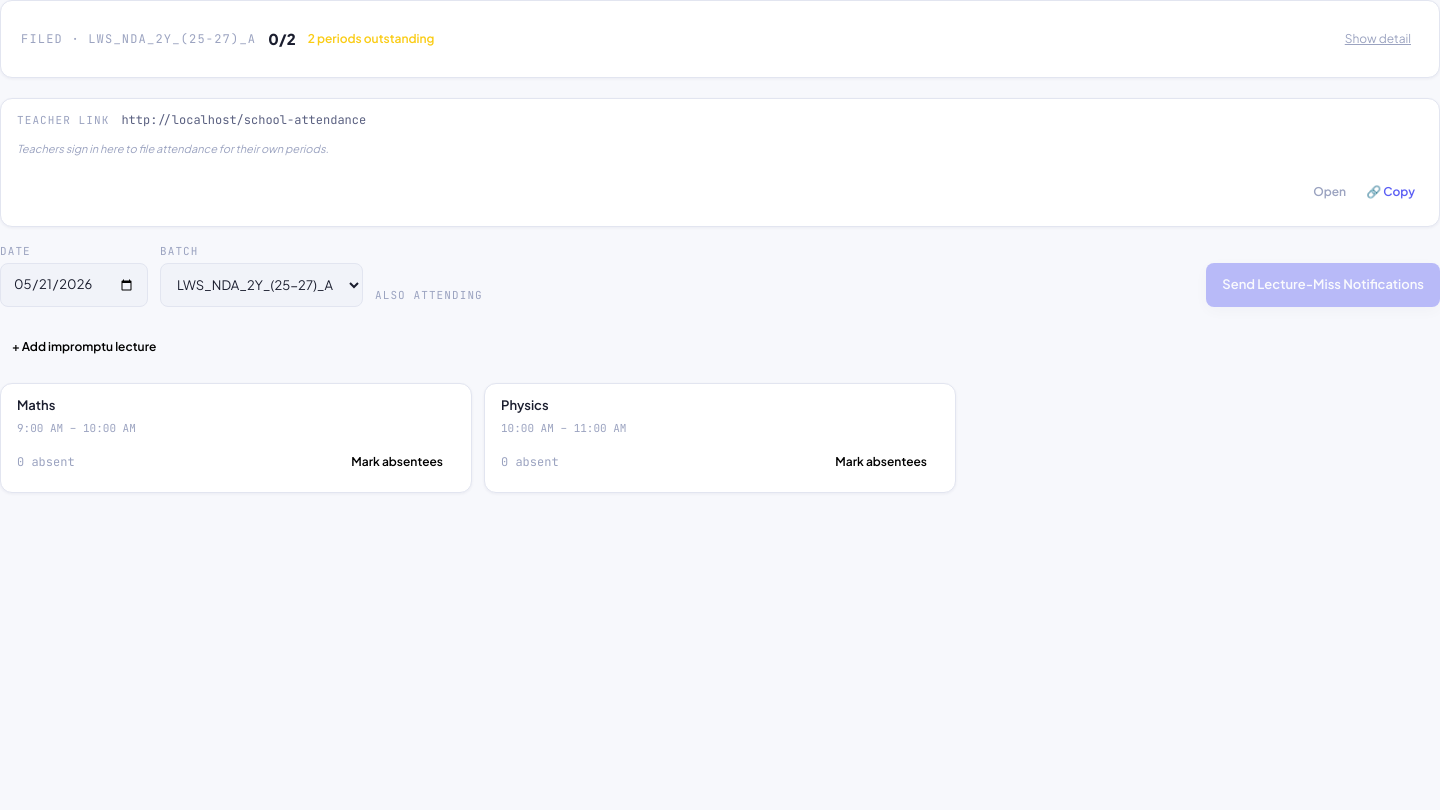
Test: LectureLogTab — marking flow › clicking "Mark absentees" opens the modal for that subject
The width and height of the screenshot is (1440, 810).
Click the 1st button "Mark absentees" at [397, 462], box top-left (339, 444), bottom-right (455, 480)
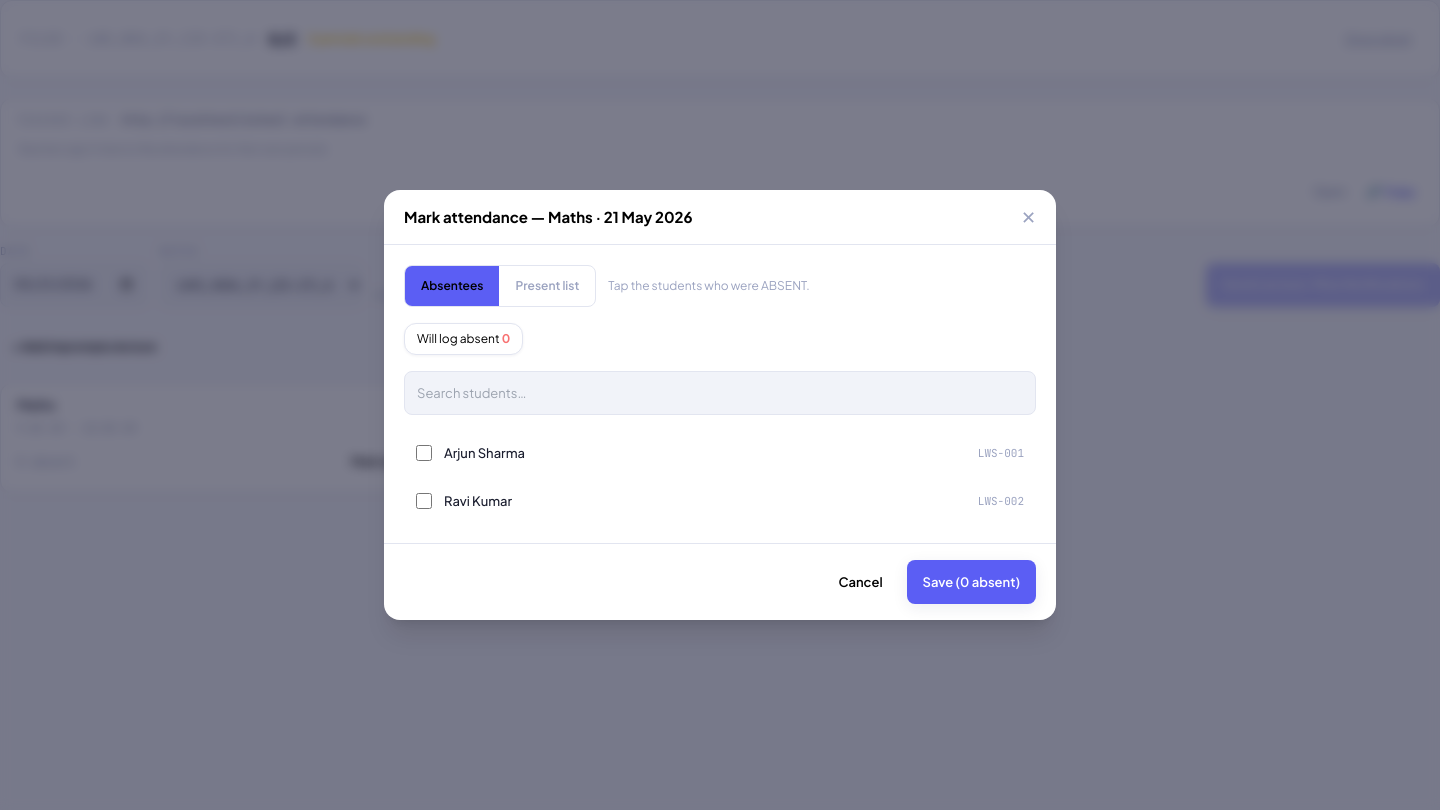
Now the heading "Mark attendance — Maths · 21 May 2026" is shown, box top-left (404, 206), bottom-right (693, 228)
